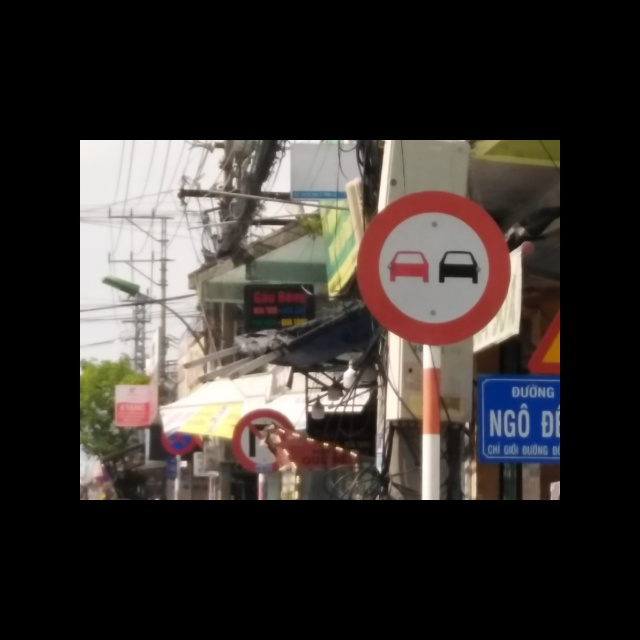Cấm vượt: (356, 189, 514, 343)
